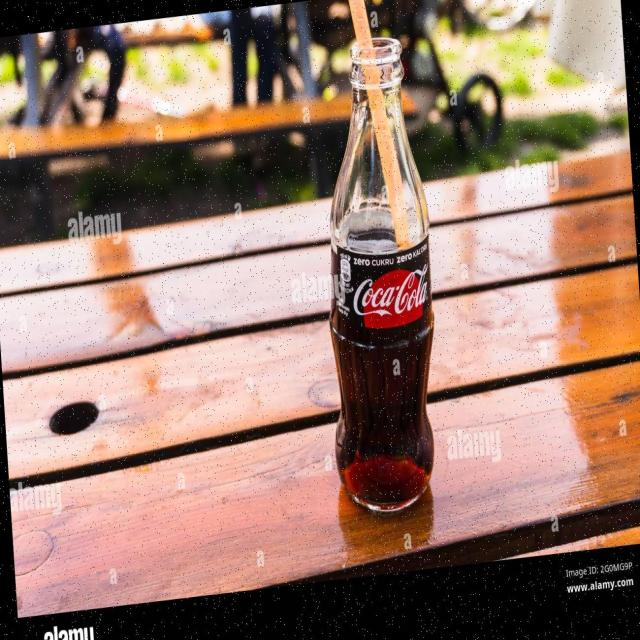coca-cola: (305, 21, 447, 528)
